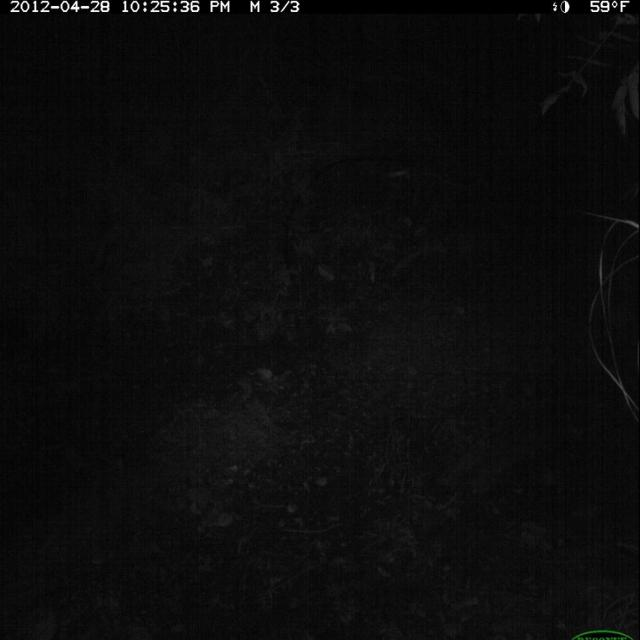opossum: (431, 204, 517, 283)
